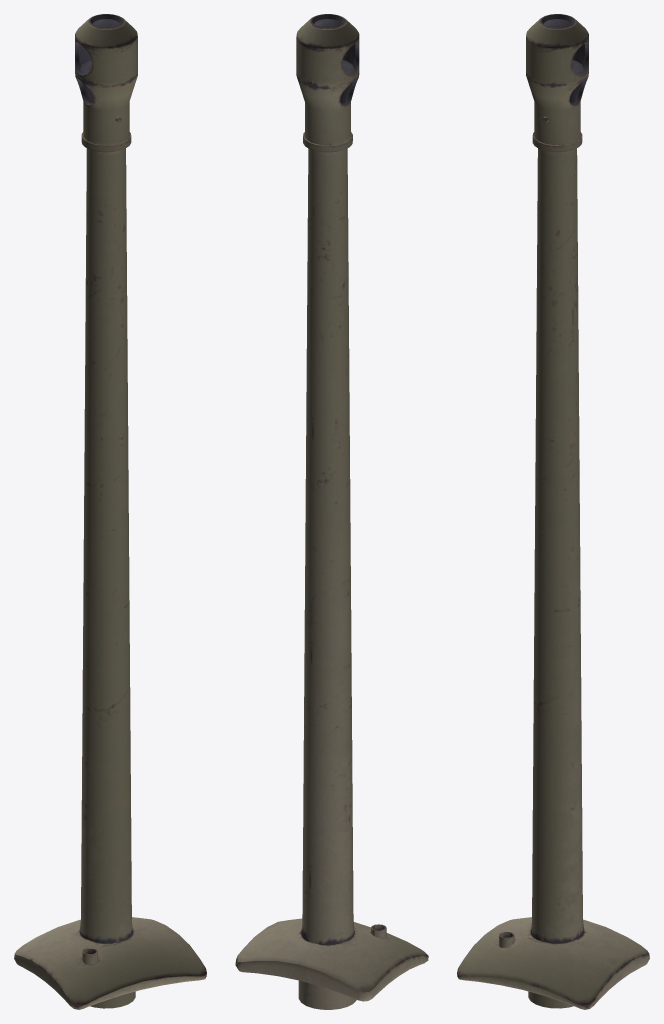
Rendered from Gun_03.glb.
3 renders of one model, left to right at view 1: azimuth 30°, elevation 25°; view 2: azimuth 150°, elevation 25°; view 3: azimuth 330°, elevation 25°, orthographic.
Parts seen in each view (by area): view 1: set_0_group_0; view 2: set_0_group_0; view 3: set_0_group_0.
Part boxes in pixels (left/top/right/bottom): set_0_group_0: left=14, top=14, right=206, bottom=1009; set_0_group_0: left=235, top=14, right=428, bottom=1009; set_0_group_0: left=457, top=14, right=649, bottom=1009.
Size of the model in its own units: 0.5211 by 3.55 by 0.4351.
1 material, 1 textured.
